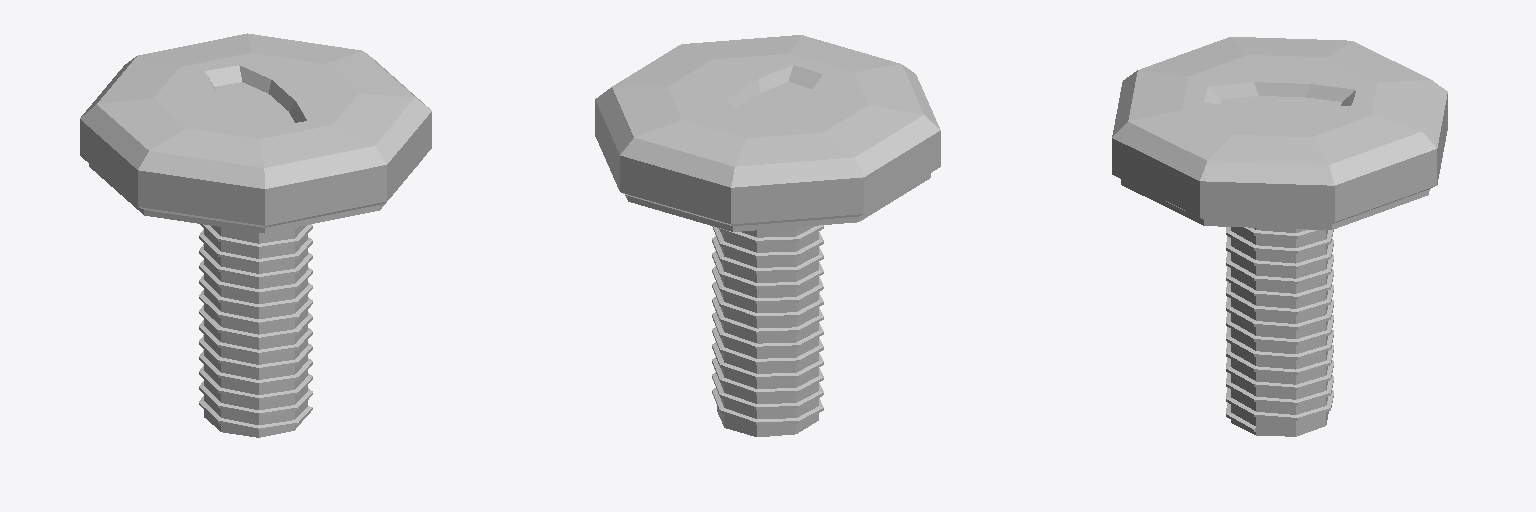
File: 868227_componente n107862.obj
3 renders of one model, left to right at view 1: azimuth 30°, elevation 25°; view 2: azimuth 150°, elevation 25°; view 3: azimuth 270°, elevation 25°, orthographic.
Parts seen in each view (by area): view 1: Helix001; view 2: Helix001; view 3: Helix001.
Part boxes in pixels (bbox=[...]): Helix001: bbox=[80, 33, 431, 437]; Helix001: bbox=[595, 35, 940, 436]; Helix001: bbox=[1112, 37, 1447, 436].
Size of the model in its own units: 12.91 by 13.57 by 12.91.